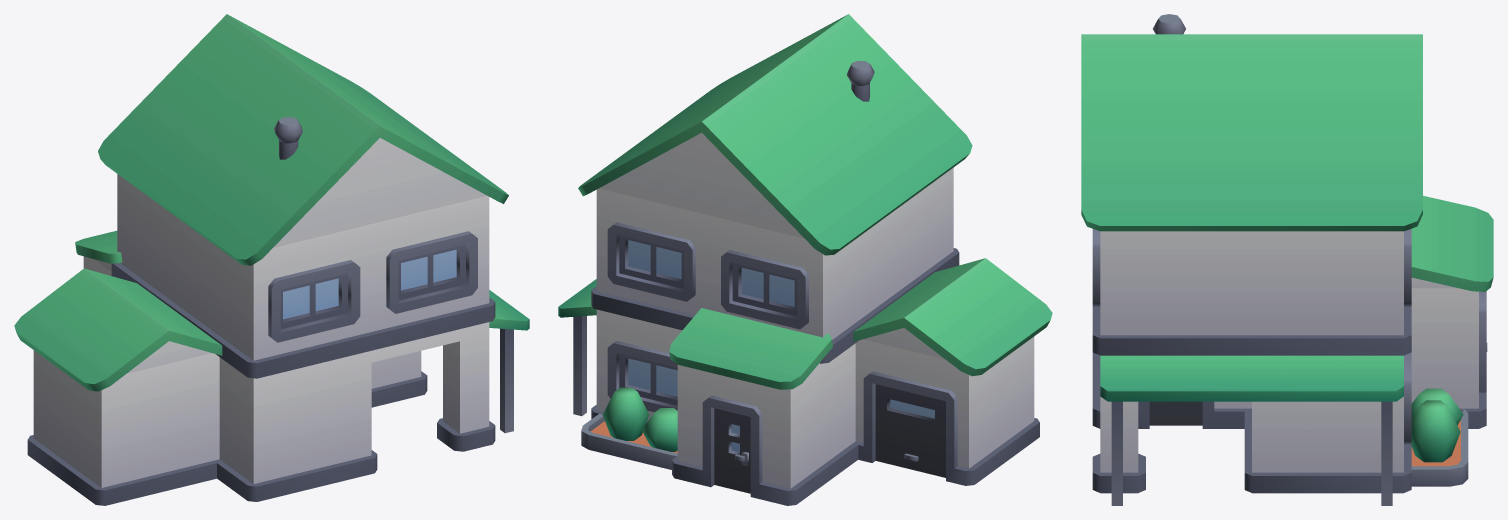
Rendered from k-city-kit-suburban-building-type-s.glb.
The picture shows the model from 3 angles, left to right: view 1: azimuth 30°, elevation 25°; view 2: azimuth 150°, elevation 25°; view 3: azimuth 270°, elevation 25°; orthographic projection. The views are drawn at different scales.
Visible parts, largest first — view 1: building-type-s; view 2: building-type-s; view 3: building-type-s.
Boxes of the visible parts, <box> form: building-type-s: <box>14,14,529,505</box>; building-type-s: <box>558,14,1052,505</box>; building-type-s: <box>1081,14,1493,505</box>.
Size of the model in its own units: 1.41 by 1.14 by 1.09.
1 material, 1 textured.
